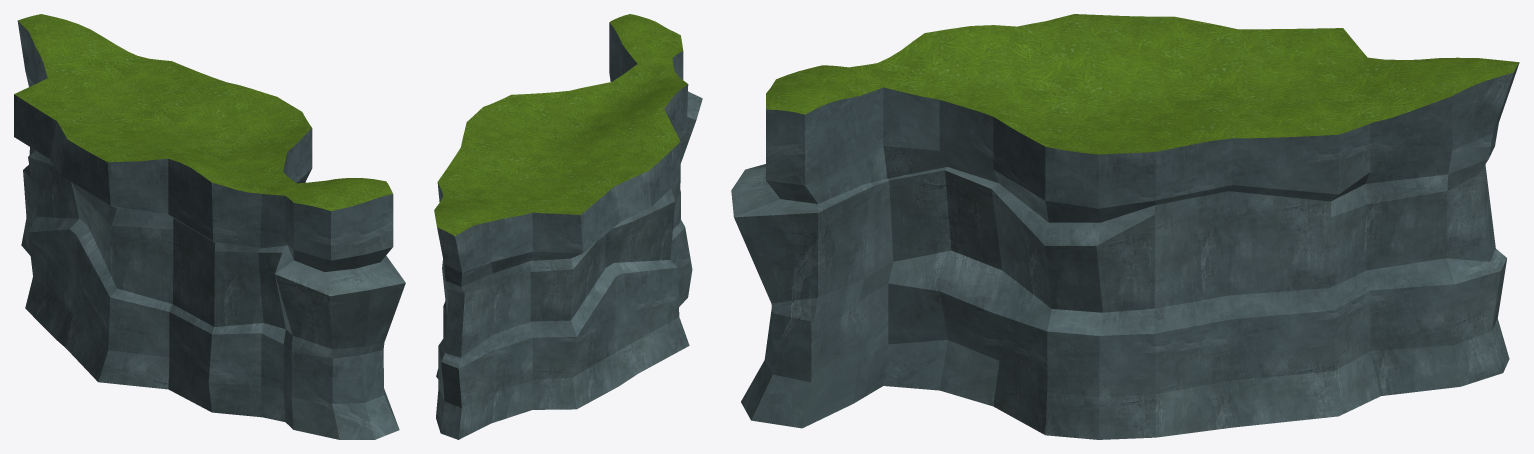
The model's file is IslandTower_2.fbx.
3 views of the same model, side by side, from view 1: azimuth 30°, elevation 25°; view 2: azimuth 150°, elevation 25°; view 3: azimuth 270°, elevation 25° (orthographic). The views are drawn at different scales.
Parts seen in each view (by area): view 1: pPlane2; view 2: pPlane2; view 3: pPlane2.
Part boxes in pixels (x1,y1,x2,y2): pPlane2: (14, 14, 405, 439); pPlane2: (434, 14, 702, 439); pPlane2: (731, 14, 1519, 439).
Size of the model in its own units: 3.52 by 3.73 by 8.43.
